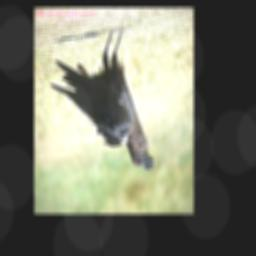Crow: (50, 28, 156, 171)
